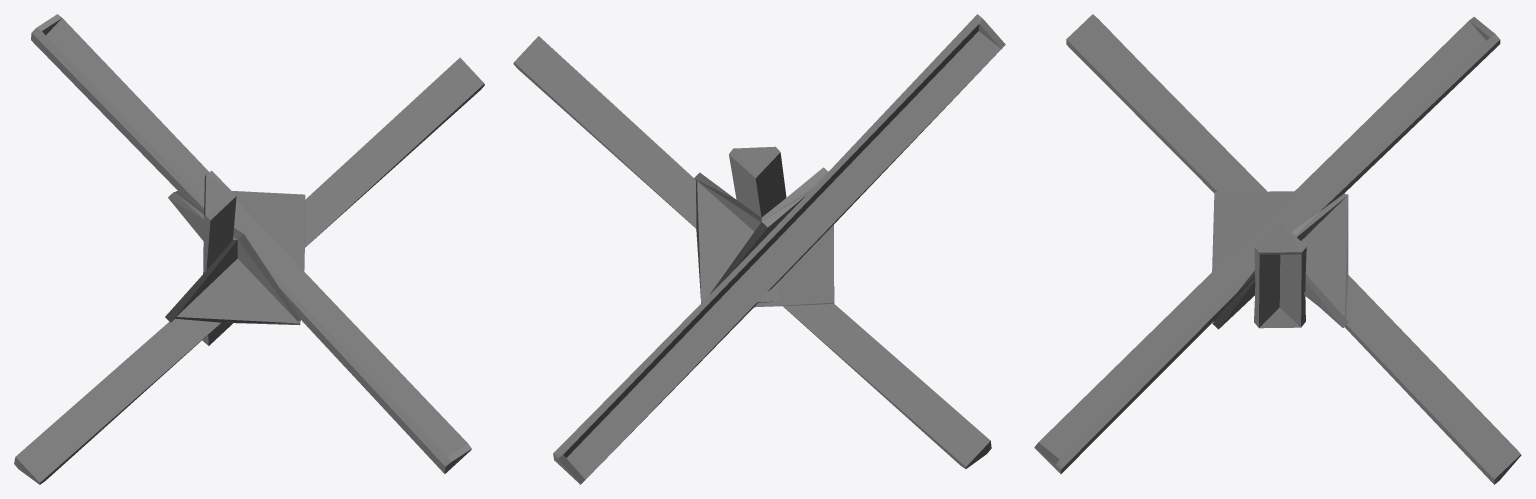
The model's file is model_antitank_trap.fbx.
3 renders of one model, left to right at view 1: azimuth 30°, elevation 25°; view 2: azimuth 150°, elevation 25°; view 3: azimuth 270°, elevation 25°, orthographic.
Parts seen in each view (by area): view 1: model_antitank_trap; view 2: model_antitank_trap; view 3: model_antitank_trap.
Boxes of the visible parts, left/top/right/bottom form: model_antitank_trap: left=14, top=14, right=484, bottom=484; model_antitank_trap: left=513, top=14, right=1005, bottom=484; model_antitank_trap: left=1034, top=14, right=1521, bottom=484.
Size of the model in its own units: 248 by 191 by 224.
1 material, 1 textured.
